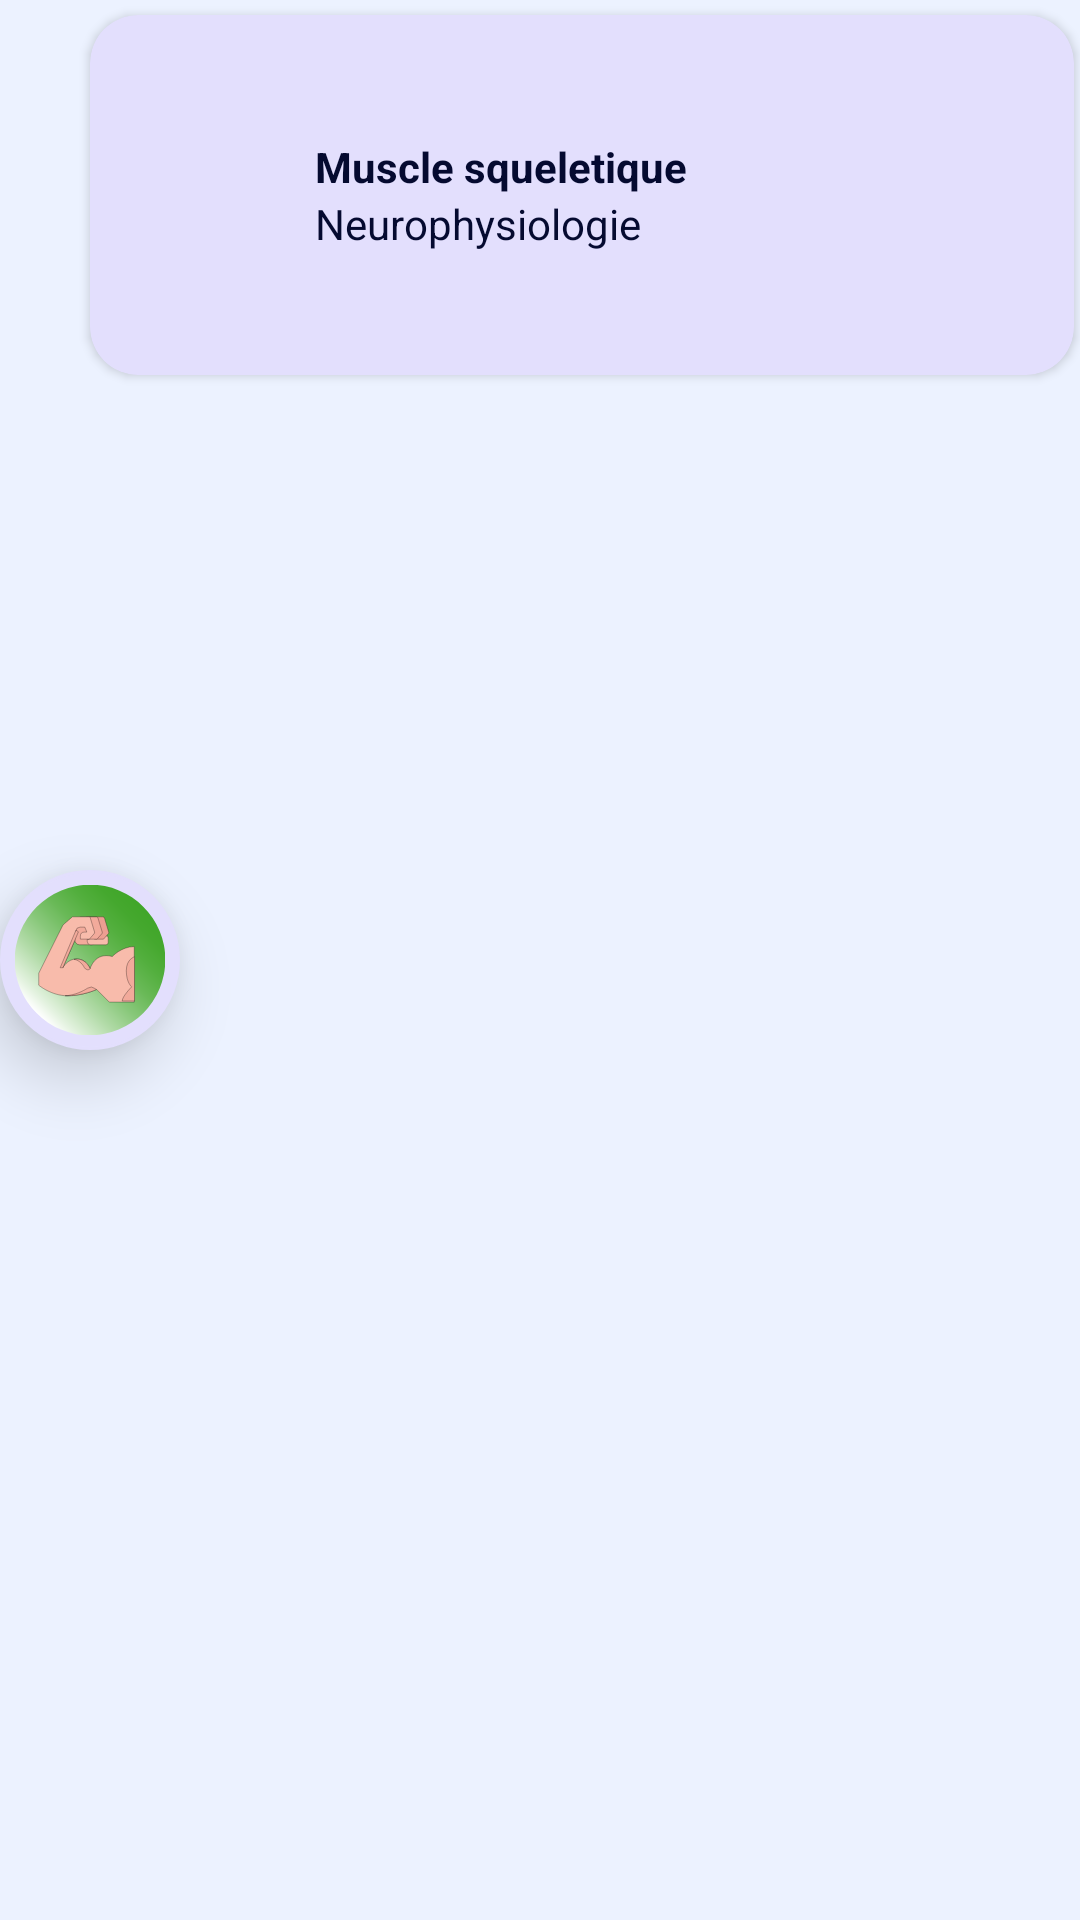

Point at icon controls on the screen. Image size 1080*1920, points as (x,y).
Icône muscle squeletique: (84,965)
